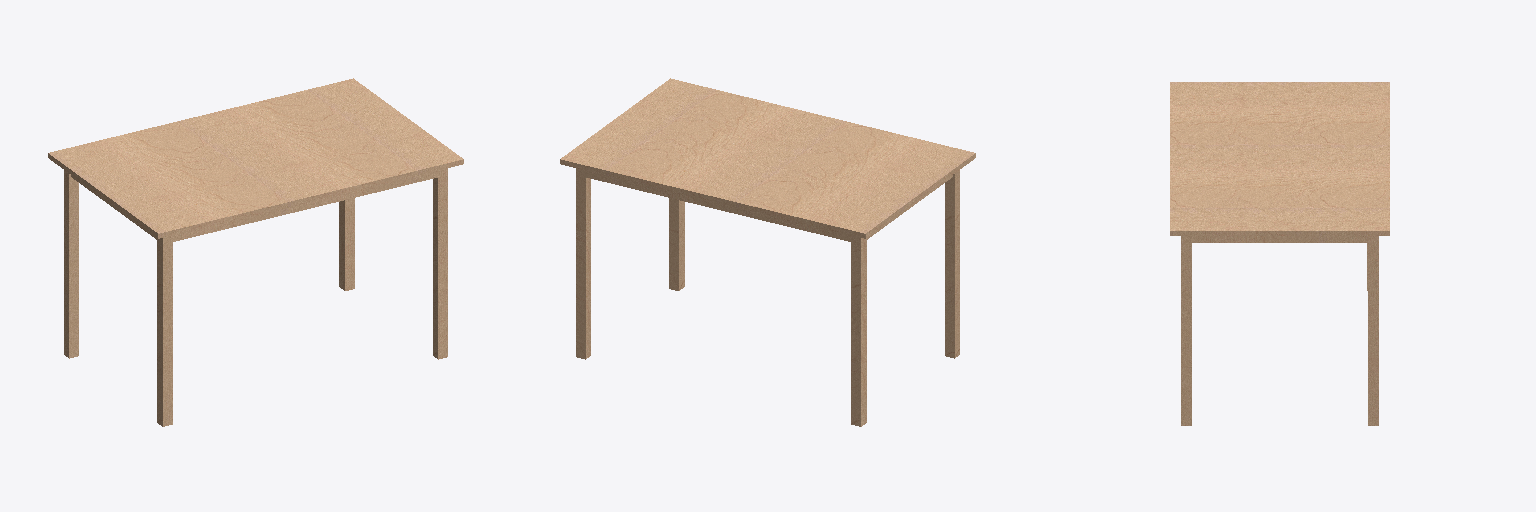
The picture shows the model from 3 angles: view 1: azimuth 30°, elevation 25°; view 2: azimuth 150°, elevation 25°; view 3: azimuth 270°, elevation 25°; orthographic projection.
Visible parts, largest first — view 1: Mesh1 Ikea_Jokkmokk_Table1 Model; view 2: Mesh1 Ikea_Jokkmokk_Table1 Model; view 3: Mesh1 Ikea_Jokkmokk_Table1 Model.
Boxes of the visible parts, x1=… form: Mesh1 Ikea_Jokkmokk_Table1 Model: x1=48, y1=78, x2=463, y2=426; Mesh1 Ikea_Jokkmokk_Table1 Model: x1=560, y1=78, x2=975, y2=426; Mesh1 Ikea_Jokkmokk_Table1 Model: x1=1170, y1=82, x2=1389, y2=425.
Bounding box in the file's own units: 46.44 × 29 × 29.07.
1 materials, 1 textured.